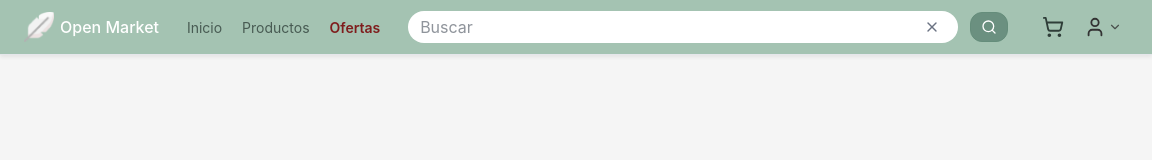
Test: Navbar › muestra "Iniciar sesión" al abrir el menú cuando no hay sesión
The width and height of the screenshot is (1152, 160).
Click the button named "Menú de cuenta" at (1103, 27), box [1078,10,1128,44]
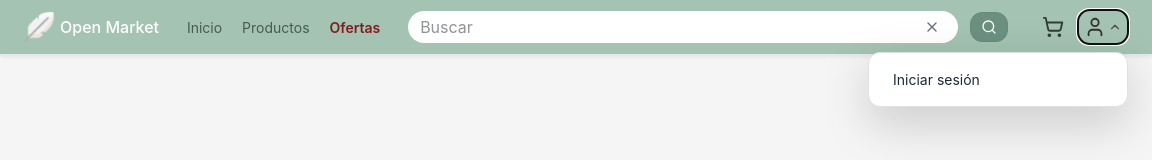
Result: the menu item "Iniciar sesión" is shown at [869,59,1127,100]
